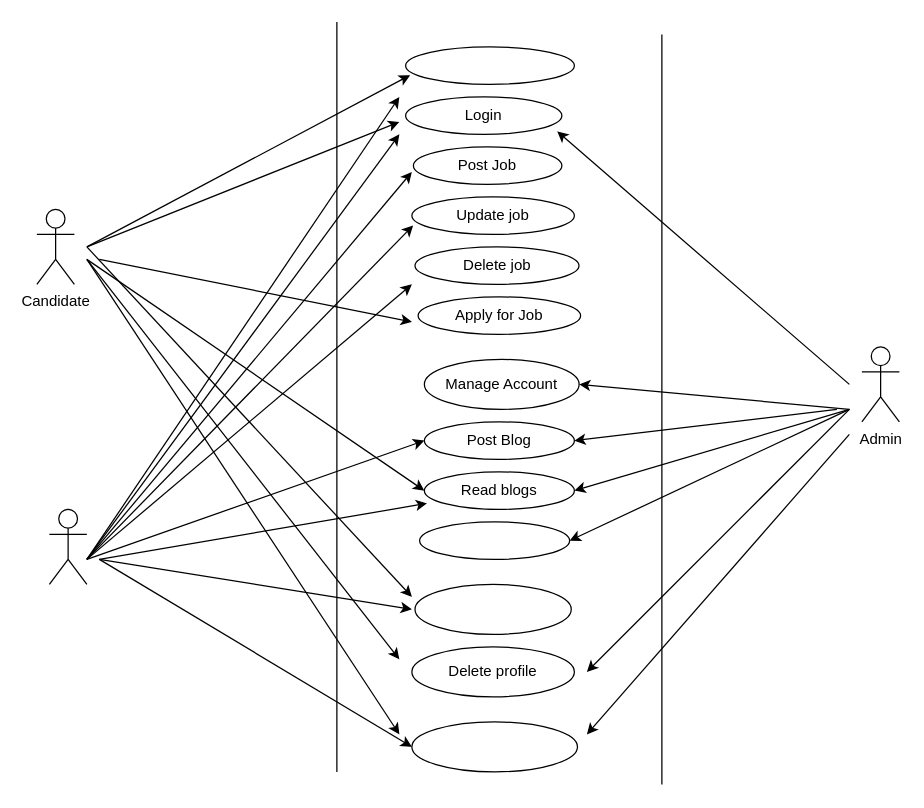
This 924x808 diagram has some shape labels left out. Here are the shapes that lost their labels. From the top down, the centre of each, then its label:
At pixel 489 65: "Registration".
At pixel 67 546: "Recriuter".
At pixel 494 540: "Send mail".
At pixel 492 608: "Update profile".
At pixel 494 746: "Logout".
